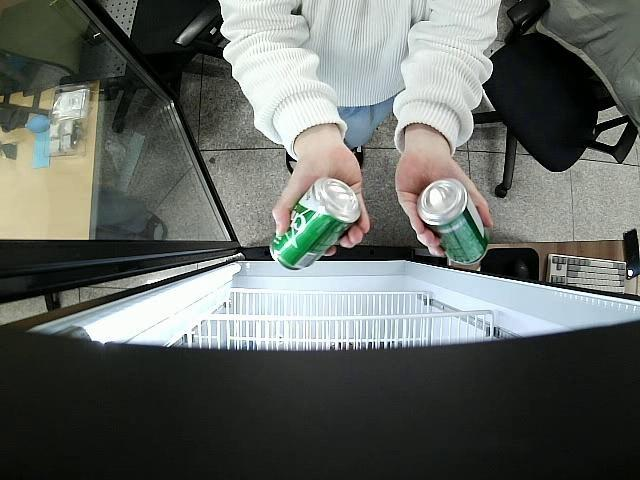12_chilsungCider: (270, 178, 360, 272), (416, 176, 492, 268)
